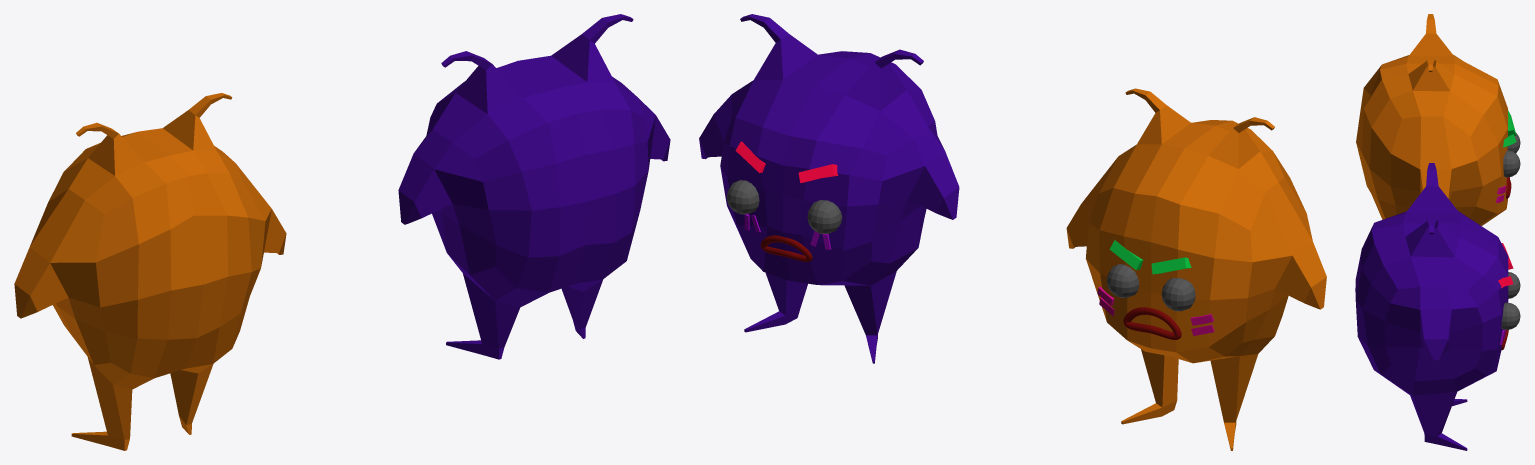
Rendered from prototipo_aliens.fbx.
3 renders of one model, left to right at view 1: azimuth 30°, elevation 25°; view 2: azimuth 150°, elevation 25°; view 3: azimuth 270°, elevation 25°, orthographic. The views are drawn at different scales.
Parts seen in each view (by area): view 1: Plane.005, Plane; view 2: Plane.005, Plane, BezierCurve.001, Cube, Cube.003, Cube.001, Plane.002, Cube.002, Plane.001, BezierCurve, Cube.004; view 3: Plane, Plane.005, Cube.001, Cube.002, Plane.002, Cube, Plane.001.
Part boxes in pixels (x1,y1,x2,y2): Plane.005: [14, 93, 286, 450]; Plane: [398, 14, 670, 359]; Plane.005: [1066, 88, 1326, 450]; Plane: [699, 14, 959, 363]; BezierCurve.001: [1123, 307, 1181, 339]; Cube: [807, 200, 842, 233]; Cube.003: [1161, 278, 1195, 311]; Cube.001: [726, 180, 759, 214]; Plane.002: [1109, 240, 1191, 274]; Cube.002: [1107, 264, 1139, 297]; Plane.001: [735, 141, 838, 182]; BezierCurve: [760, 235, 812, 261]; Cube.004: [1097, 286, 1214, 335]; Plane: [1355, 163, 1508, 450]; Plane.005: [1356, 14, 1508, 225]; Cube.001: [1501, 302, 1520, 329]; Cube.002: [1503, 150, 1520, 177]; Plane.002: [1503, 110, 1516, 147]; Cube: [1508, 272, 1520, 298]; Plane.001: [1498, 243, 1513, 288].
Size of the model in its own units: 6.1 by 2.96 by 1.8.
